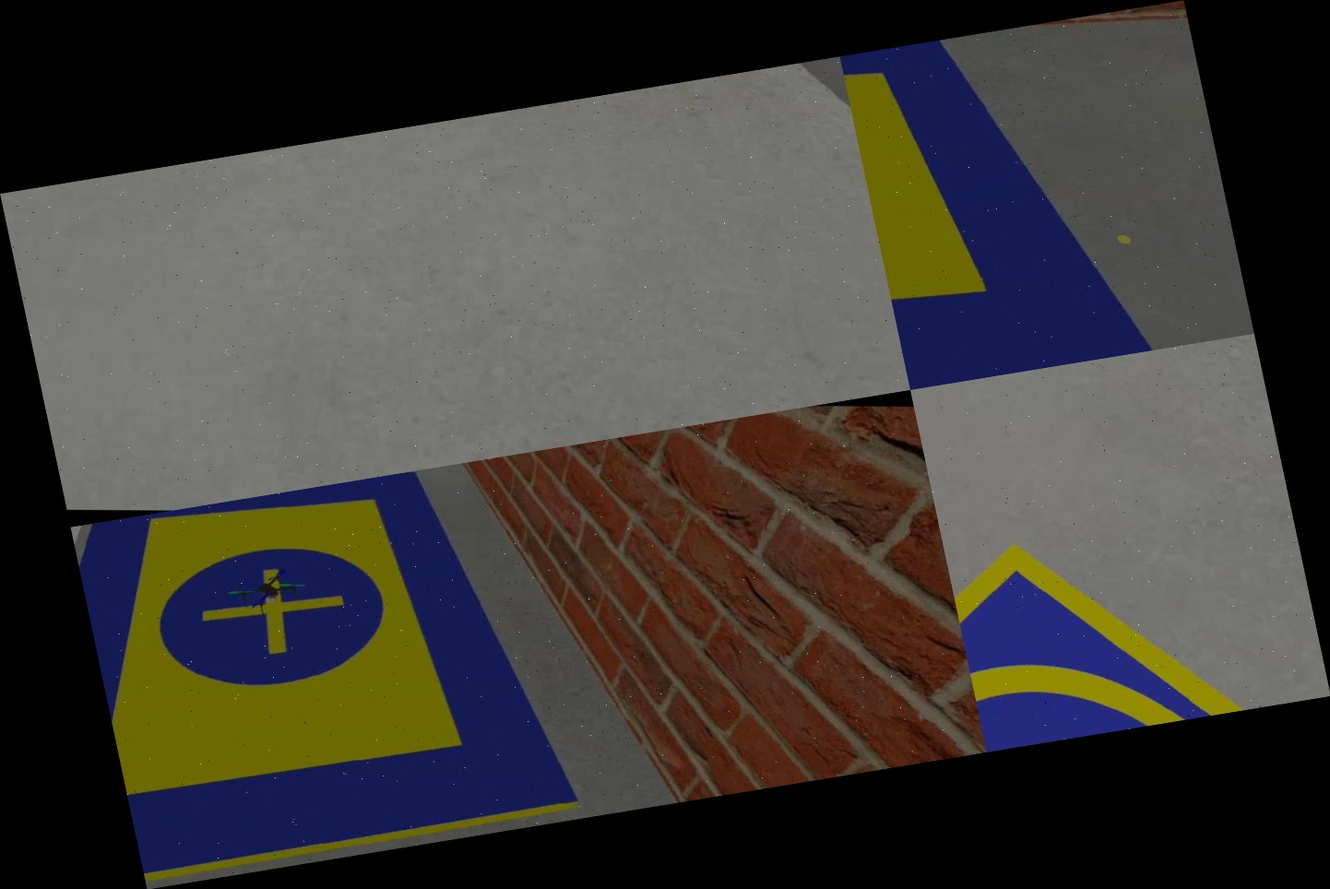large_base: (71, 444, 652, 888), (840, 3, 1235, 390)
small_base: (935, 454, 1330, 752)
